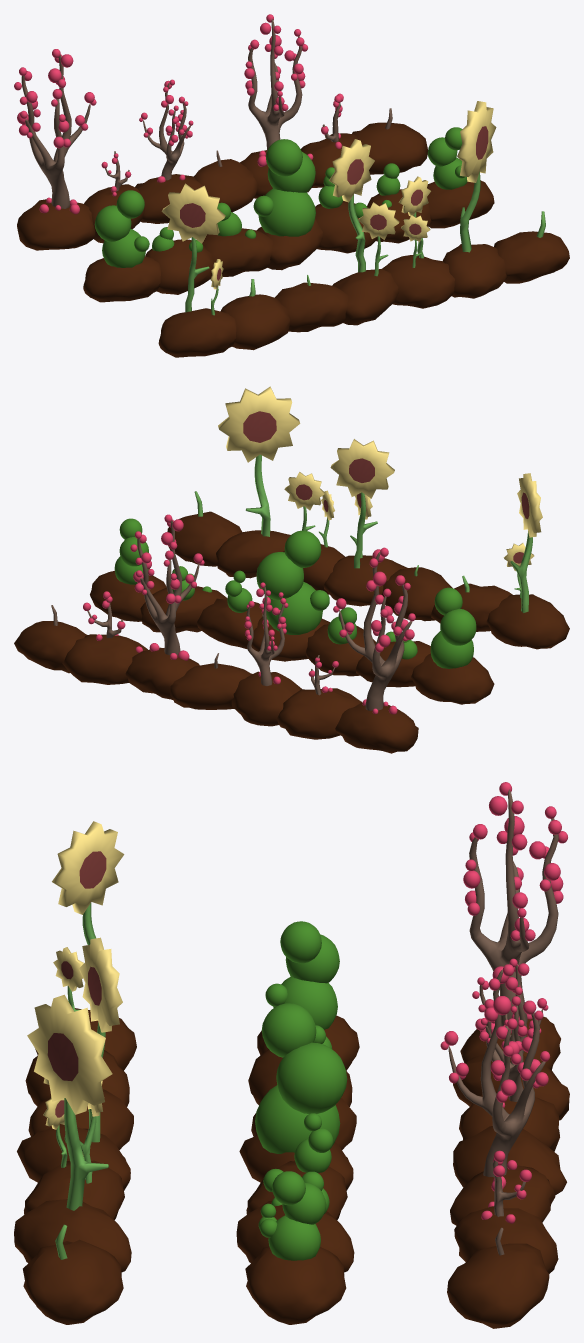
Rendered from Beete.fbx.
The picture shows the model from 3 angles, top to bottom: view 1: azimuth 30°, elevation 25°; view 2: azimuth 150°, elevation 25°; view 3: azimuth 270°, elevation 25°; orthographic projection. The views are drawn at different scales.
Visible parts, largest first — view 1: Kaktusbeet.001, Kaktusbeet, Beerenbeet; view 2: Beerenbeet, Kaktusbeet.001, Kaktusbeet; view 3: Beerenbeet, Kaktusbeet.001, Kaktusbeet.
Part boxes in pixels (bbox=[...]): Kaktusbeet.001: bbox=[158, 101, 569, 357]; Kaktusbeet: bbox=[83, 127, 494, 302]; Beerenbeet: bbox=[14, 14, 427, 250]; Beerenbeet: bbox=[14, 514, 418, 753]; Kaktusbeet.001: bbox=[167, 386, 569, 649]; Kaktusbeet: bbox=[90, 518, 494, 704]; Beerenbeet: bbox=[440, 782, 569, 1328]; Kaktusbeet.001: bbox=[14, 821, 136, 1324]; Kaktusbeet: bbox=[236, 921, 359, 1324].
Bounding box in the file's own units: 1313 × 620 × 1060.
